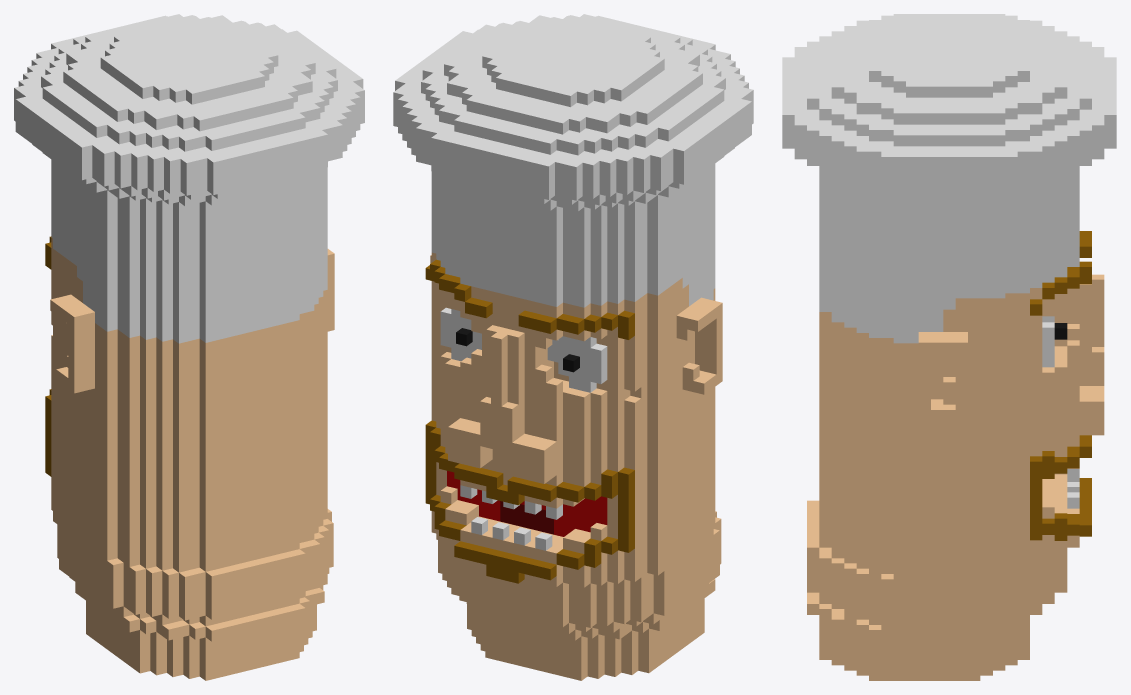
File: chef1head.obj
The picture shows the model from 3 angles, left to right: view 1: azimuth 30°, elevation 25°; view 2: azimuth 150°, elevation 25°; view 3: azimuth 270°, elevation 25°; orthographic projection. The views are drawn at different scales.
Size of the model in its own units: 27 by 52 by 27.
Materials: 1 (1 with a texture image).
